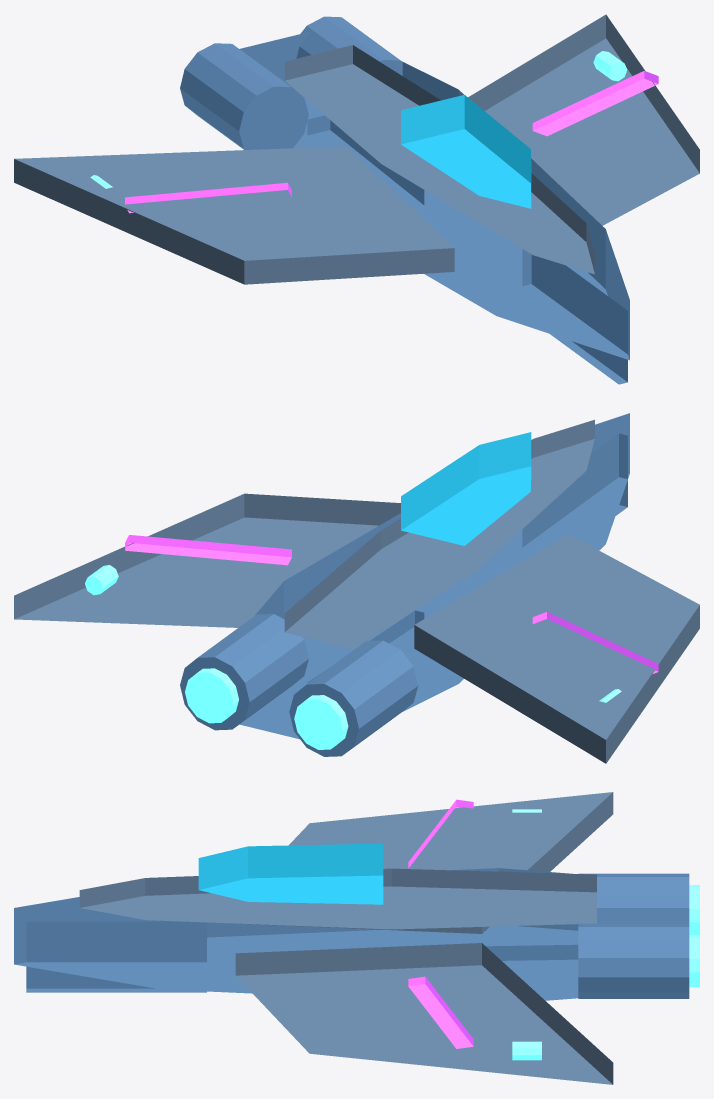
Rendered from alien_fighter.gltf.
3 views of the same model, one above another, from view 1: azimuth 30°, elevation 25°; view 2: azimuth 150°, elevation 25°; view 3: azimuth 270°, elevation 25° (orthographic). The views are drawn at different scales.
Visible parts, largest first — view 1: StarfallFighter_root; view 2: StarfallFighter_root; view 3: StarfallFighter_root.
Part boxes in pixels (bbox=[...]): StarfallFighter_root: bbox=[14, 14, 699, 384]; StarfallFighter_root: bbox=[14, 413, 699, 763]; StarfallFighter_root: bbox=[14, 792, 699, 1084].
Bounding box in the file's own units: 7.8 × 1.78 × 8.36.
